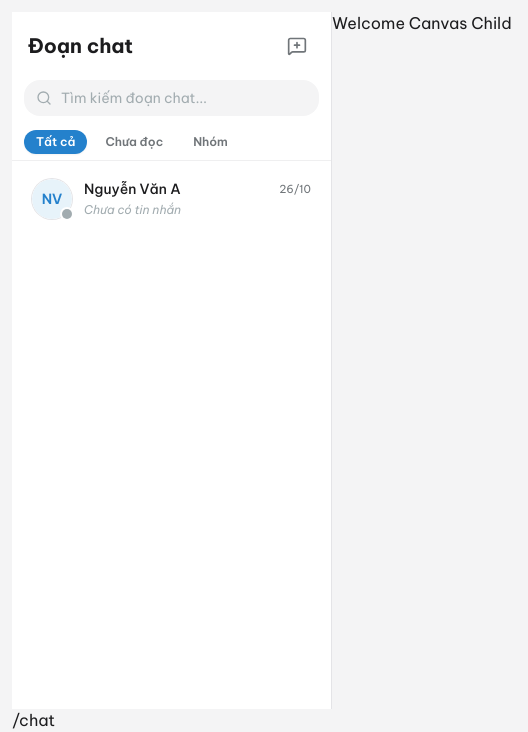
Scenario: ChatLayout Component Tests › renders sidebar and nested outlet canvas, and navigates when selecting conversation
This screenshot has width=528, height=732.
expect the heading "Đoạn chat" is shown: met, box [28, 32, 133, 60]
expect the text "Welcome Canvas Child" is shown: met, box [332, 13, 512, 33]
// Click conversation item
Click the heading "Nguyễn Văn A": click(132, 190) [84, 180, 181, 200]
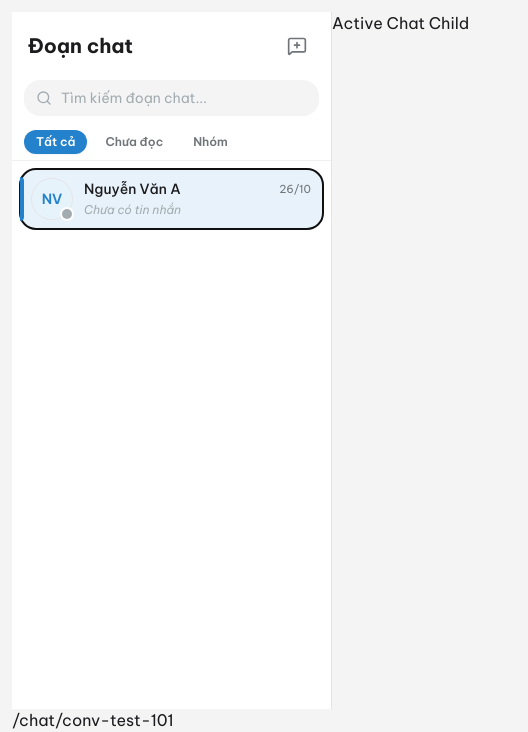
expect the text with test id "location-display" reads "/chat/conv-test-101": met, box [12, 710, 174, 730]
expect the text "Active Chat Child" is shown: met, box [332, 13, 469, 33]
